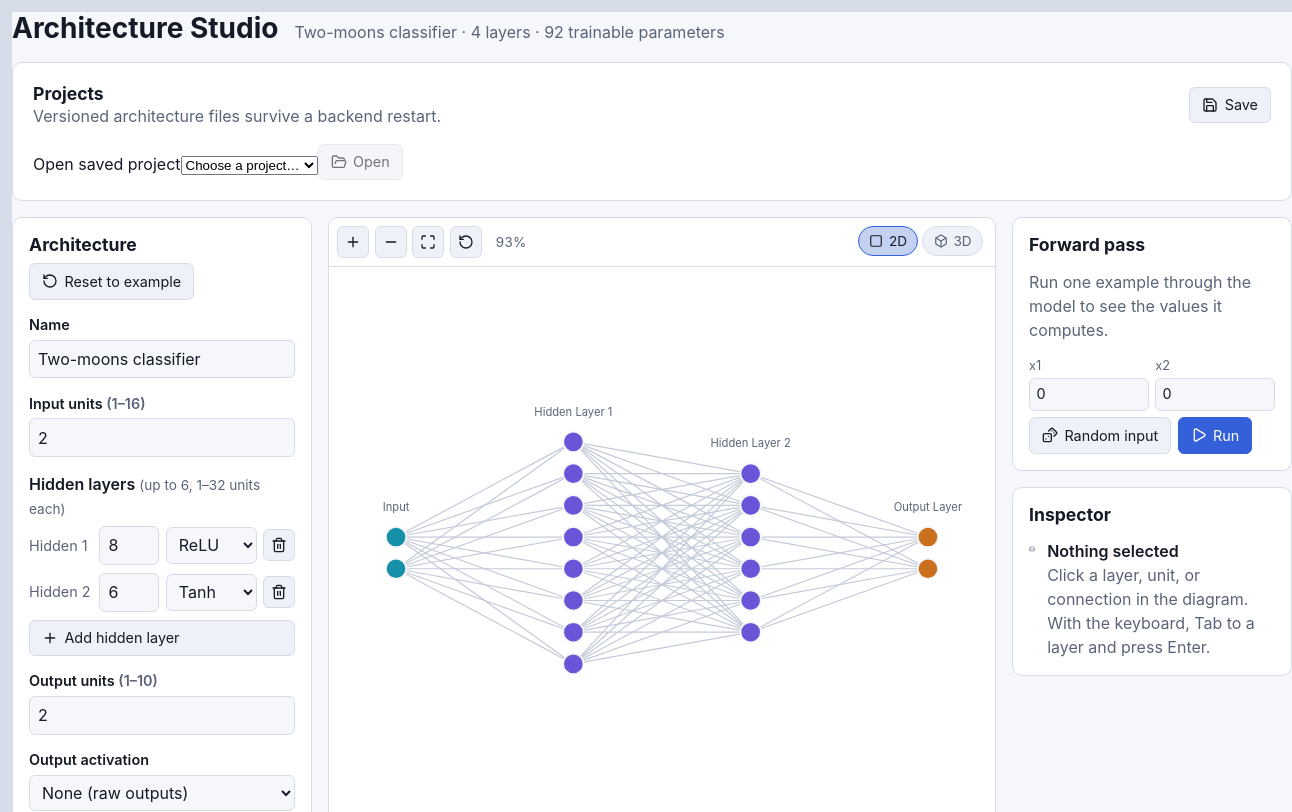
Test case: Architecture Studio › saves the current architecture as a versioned project
Check: the button "Hidden Layer 1, 8 units" is shown, box top-left (534, 405), bottom-right (612, 419)
What coordinates should you click on to do the following:
click the button "Save"
I would click on:
 (1230, 105)
Its box is top-left (1189, 87), bottom-right (1271, 123).
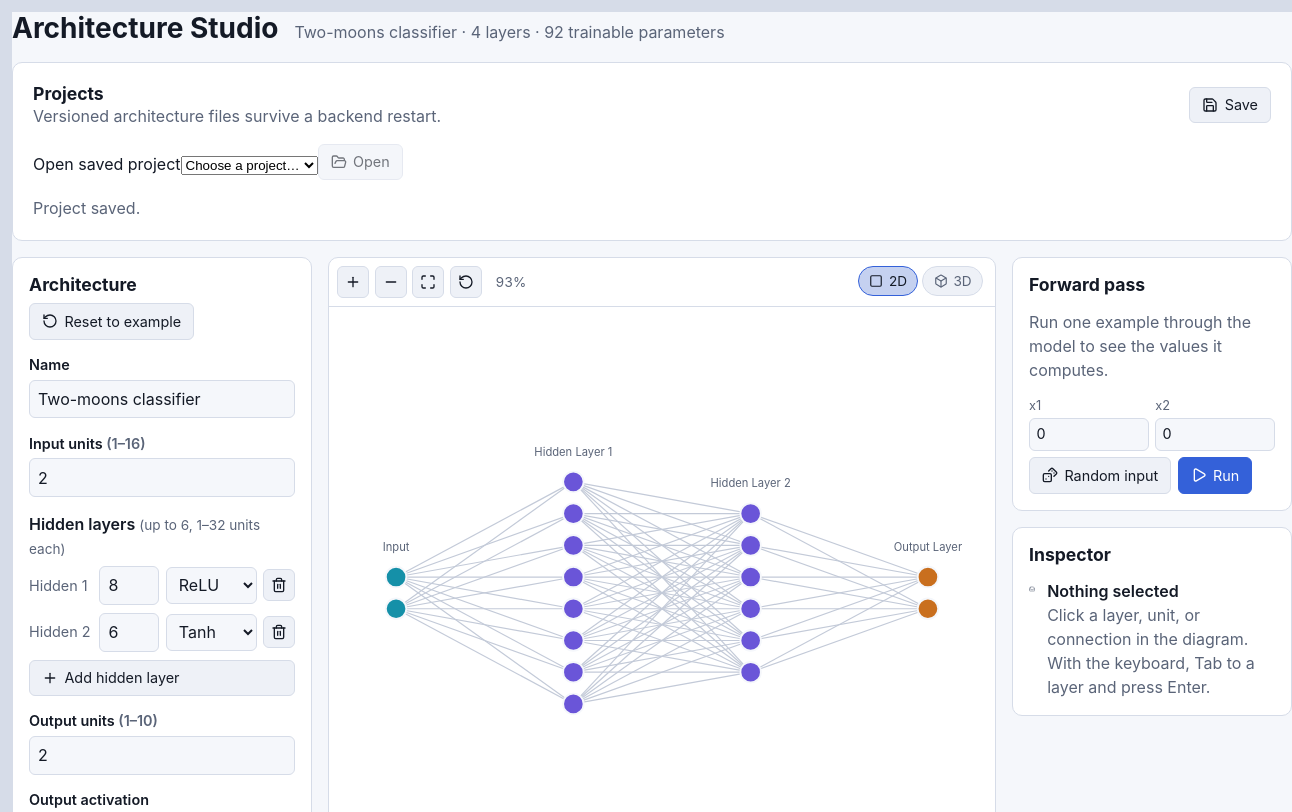
Check: the message reads "Project saved.", box top-left (33, 198), bottom-right (140, 218)
